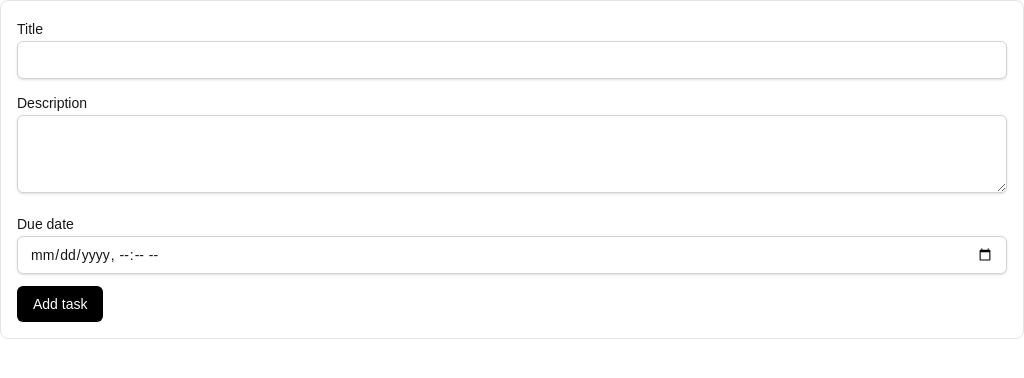
Test: CreateTaskForm › title rule (AC-2.1a, AC-2.2a, AC-2.2b, AC-2.2c) › refuses an empty title
Type "2027-03-05T17:00" into the field labelled "Due date" at [512, 255], box [17,236,1007,274]
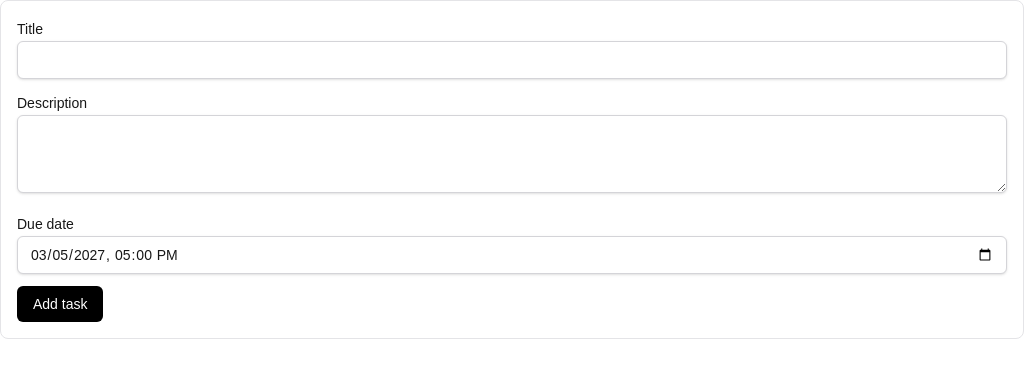
Click the button "Add task" at [60, 304], box [17,286,104,322]
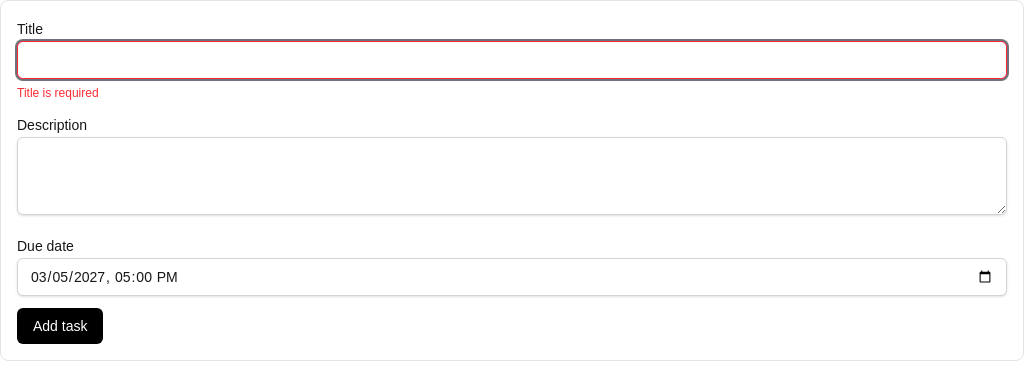
Expected: the text "Title is required" is shown, [17,86,99,100]
